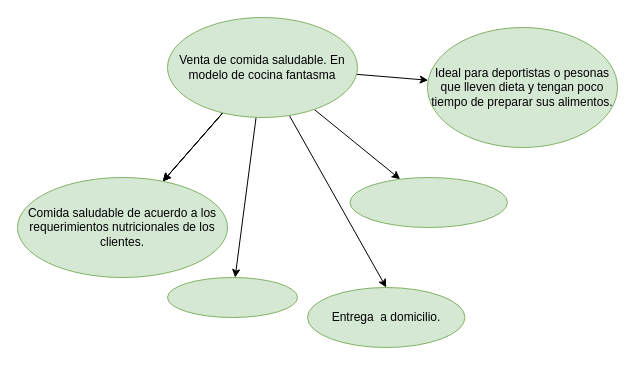
Some shapes in this 635 by 365 pixel diagram are drawn without their labels. The shapes that lost their labels are listed below. From the top down, each one's centre as x and y in pixels, then its label:
the point at 428,202: Ideal para estudiantes.
the point at 232,297: Precios accesibles.
